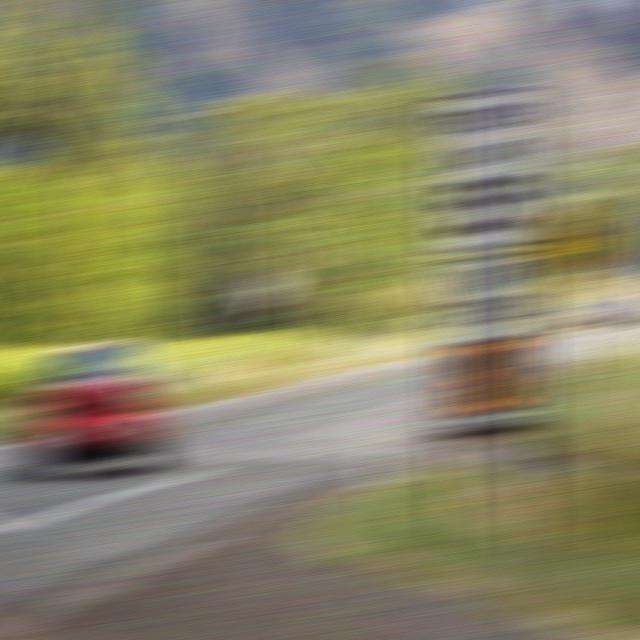speedLimit55: (431, 94, 534, 248)
